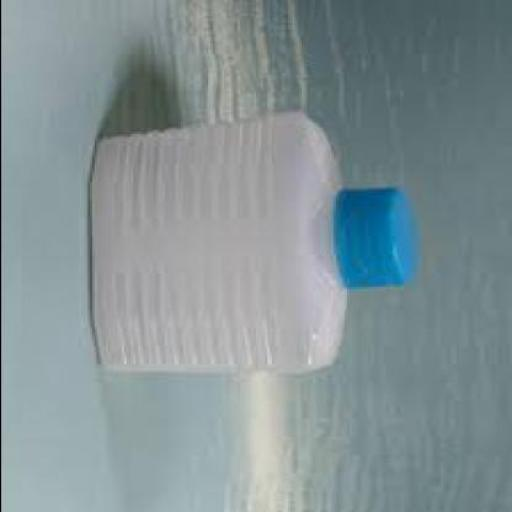plastic: (91, 109, 414, 373), (335, 184, 418, 286)
